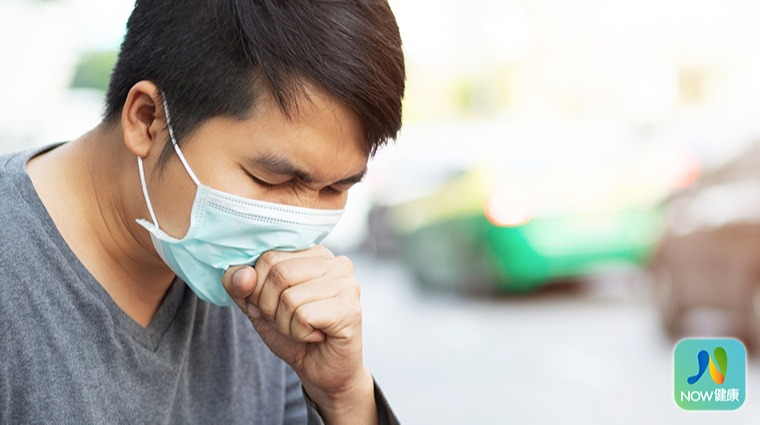Mask: (147, 55, 371, 319)
